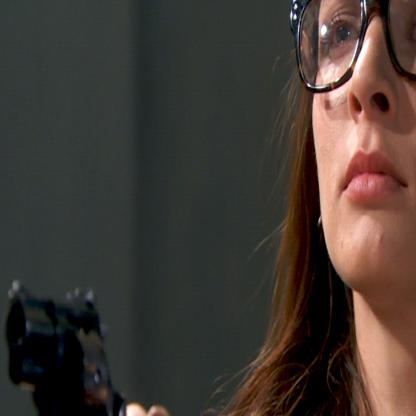gun: (0, 268, 130, 416)
